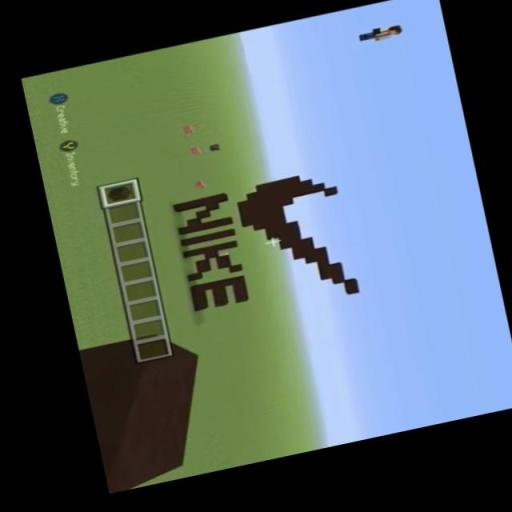Nike: (231, 164, 369, 314), (165, 190, 254, 317)
